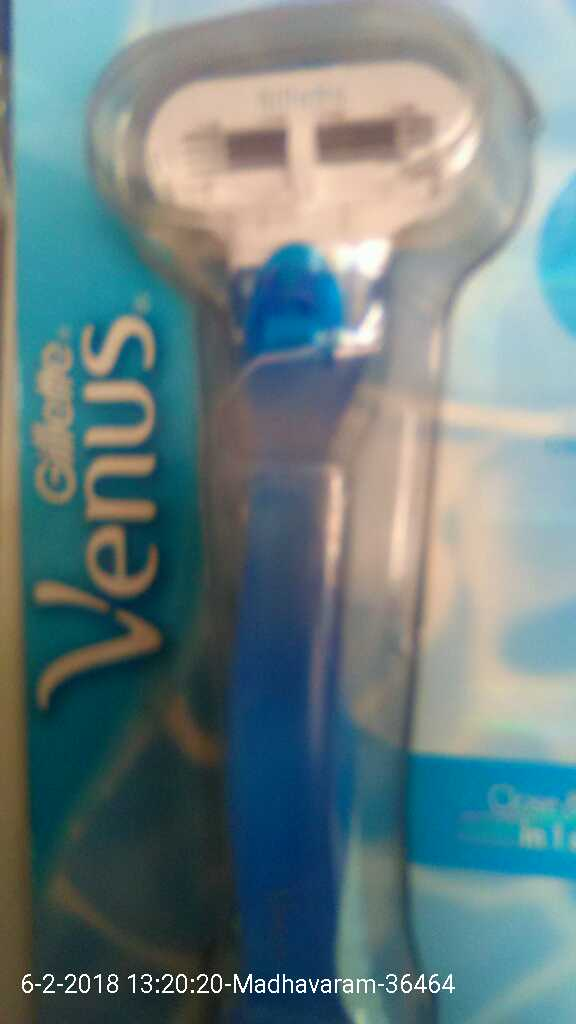venus: (101, 1, 490, 949)
